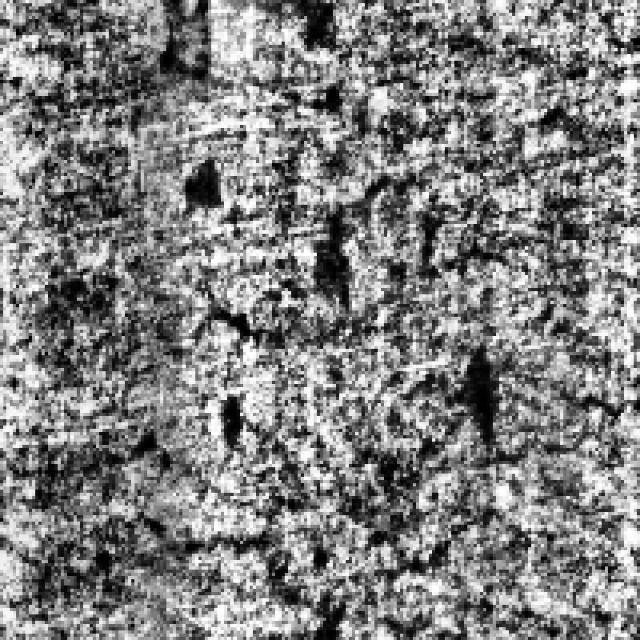Pitted_Surface: (80, 220, 525, 602), (166, 128, 499, 342)
